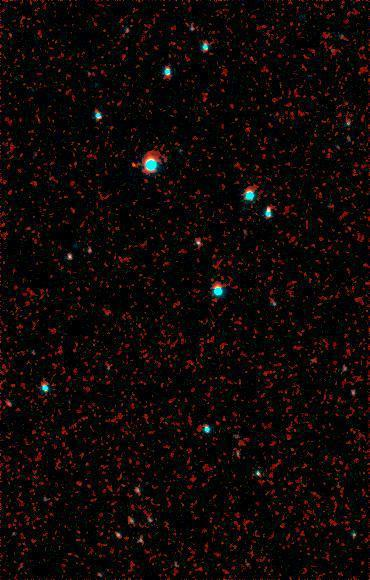star: (116, 144, 146, 174)
